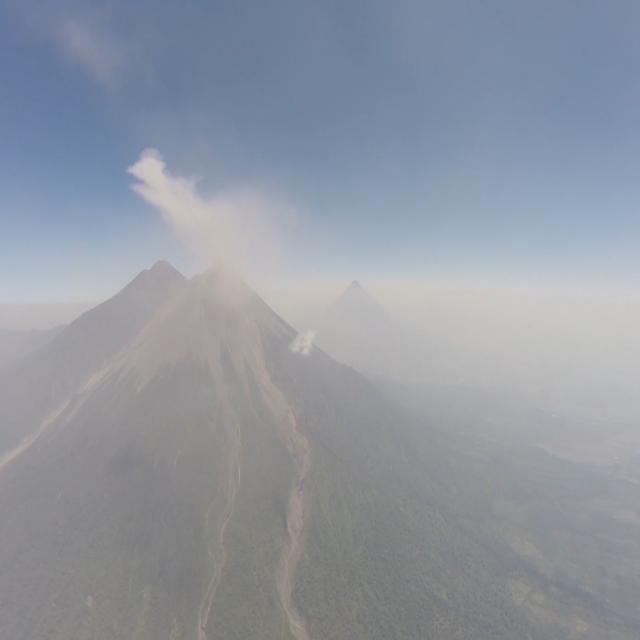Plume: (127, 140, 299, 282)
